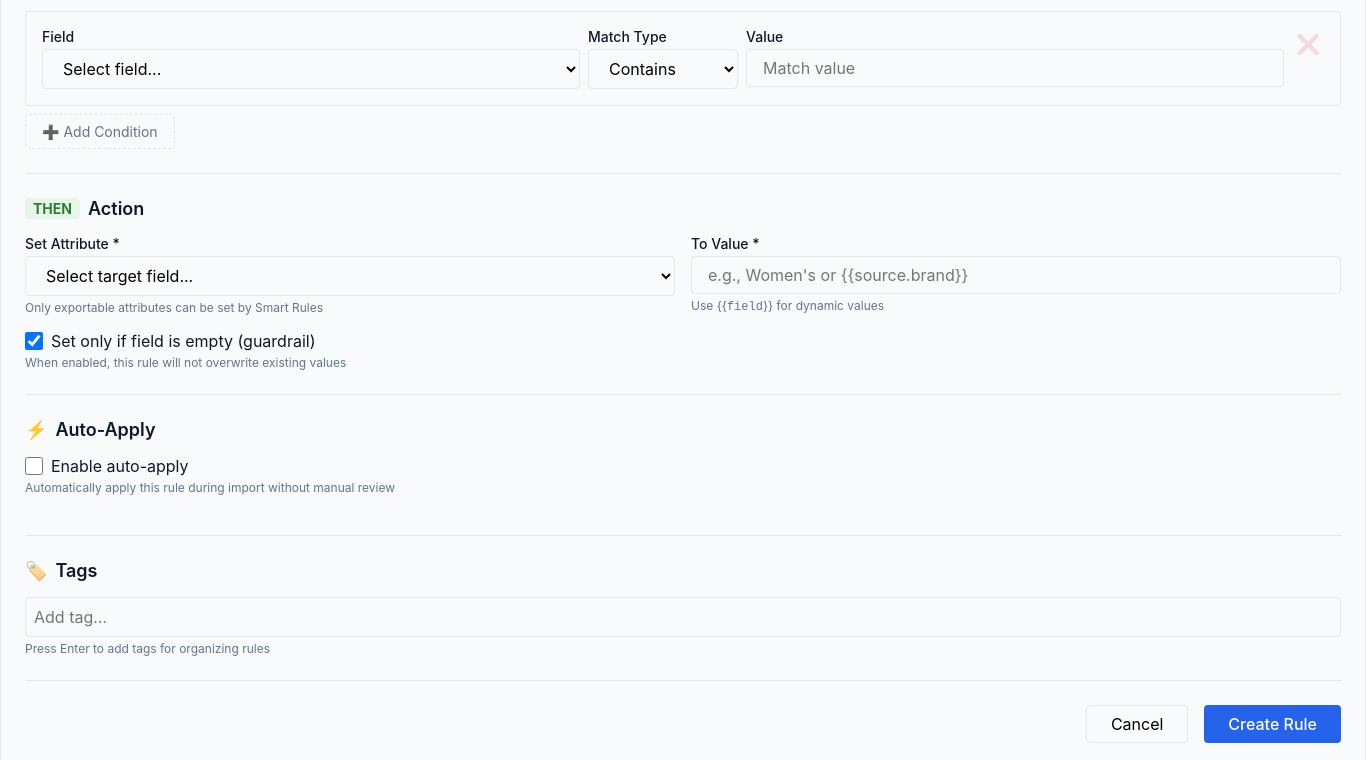
Test: RuleBuilder Component › Form Validation › should show error when name is empty
The image size is (1366, 760).
(page scrolled)
Click the button "Create Rule" at {"x": 1273, "y": 724}, box [1204, 705, 1341, 743]
(page scrolled)
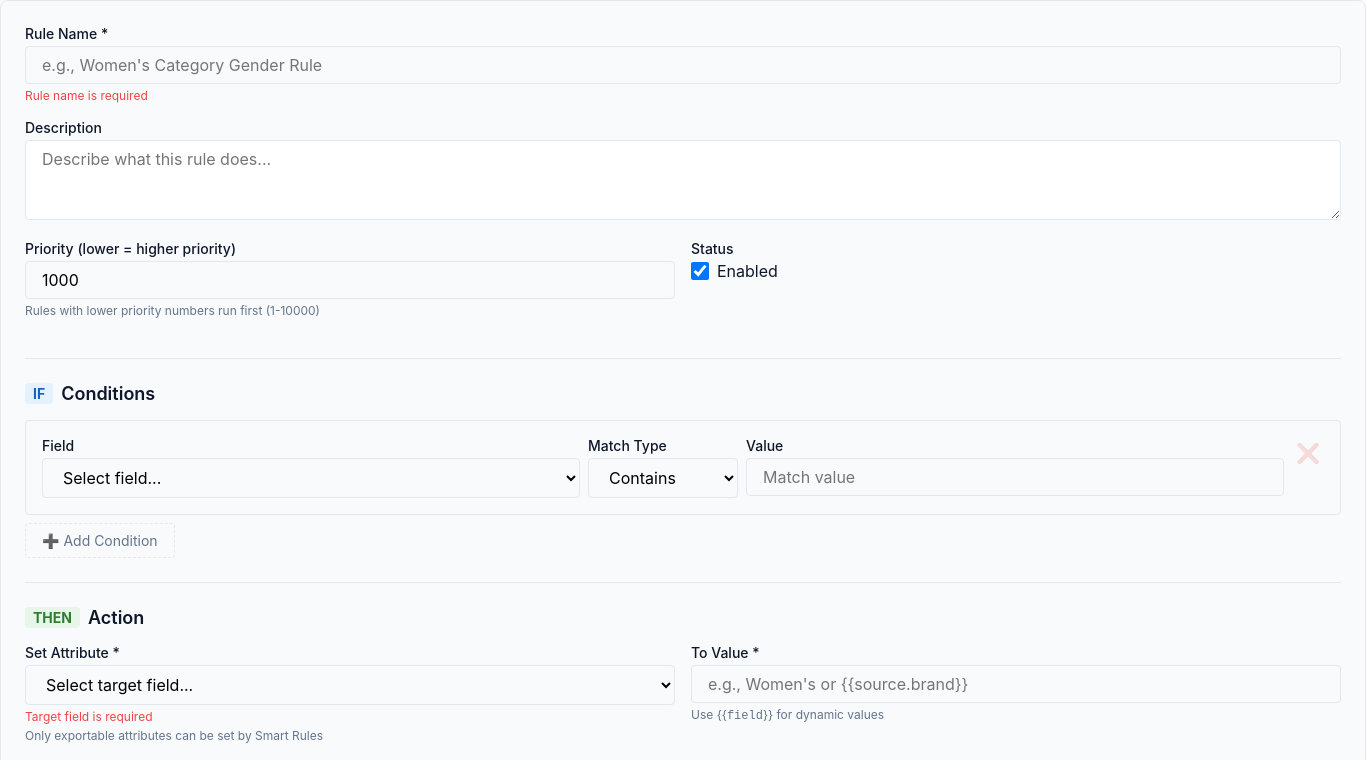
Now the text "Rule name is required" is shown, box [25, 88, 148, 103]
